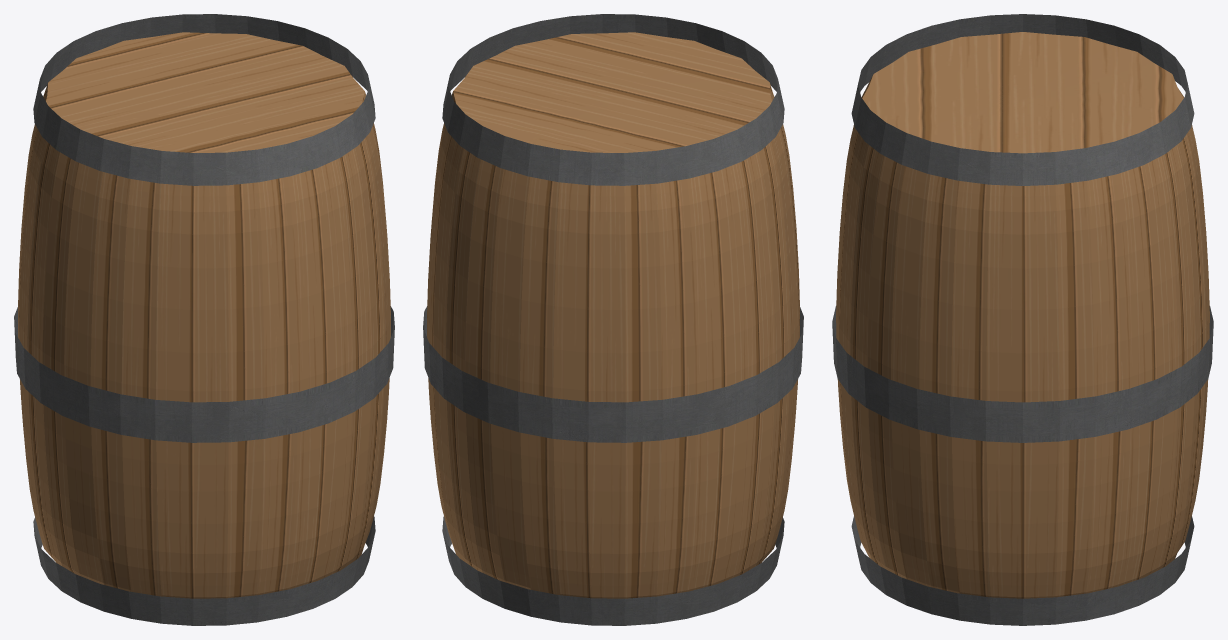
The model's file is Barril.fbx.
3 views of the same model, side by side, from view 1: azimuth 30°, elevation 25°; view 2: azimuth 150°, elevation 25°; view 3: azimuth 270°, elevation 25° (orthographic).
Visible parts, largest first — view 1: Barril; view 2: Barril; view 3: Barril.
Boxes of the visible parts, bbox=[...] form: Barril: bbox=[14, 14, 394, 625]; Barril: bbox=[423, 14, 803, 625]; Barril: bbox=[832, 14, 1213, 625].
Size of the model in its own units: 184 by 252 by 184.
